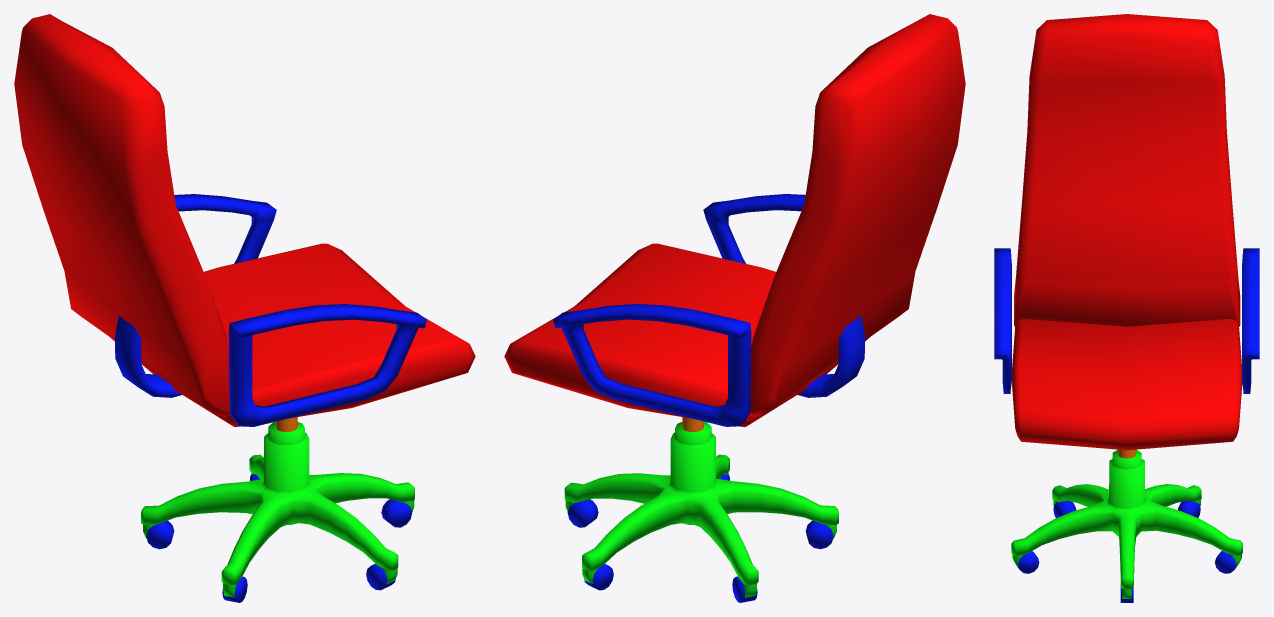
The model's file is Desk_Chair.fbx.
3 views of the same model, side by side, from view 1: azimuth 30°, elevation 25°; view 2: azimuth 150°, elevation 25°; view 3: azimuth 270°, elevation 25° (orthographic). The views are drawn at different scales.
Visible parts, largest first — view 1: Desk_Chair; view 2: Desk_Chair; view 3: Desk_Chair.
Part boxes in pixels (x1=…): Desk_Chair: x1=14, y1=14, x2=475, y2=602; Desk_Chair: x1=504, y1=14, x2=965, y2=602; Desk_Chair: x1=994, y1=14, x2=1259, y2=602.
Size of the model in its own units: 99.89 by 150 by 78.49.
